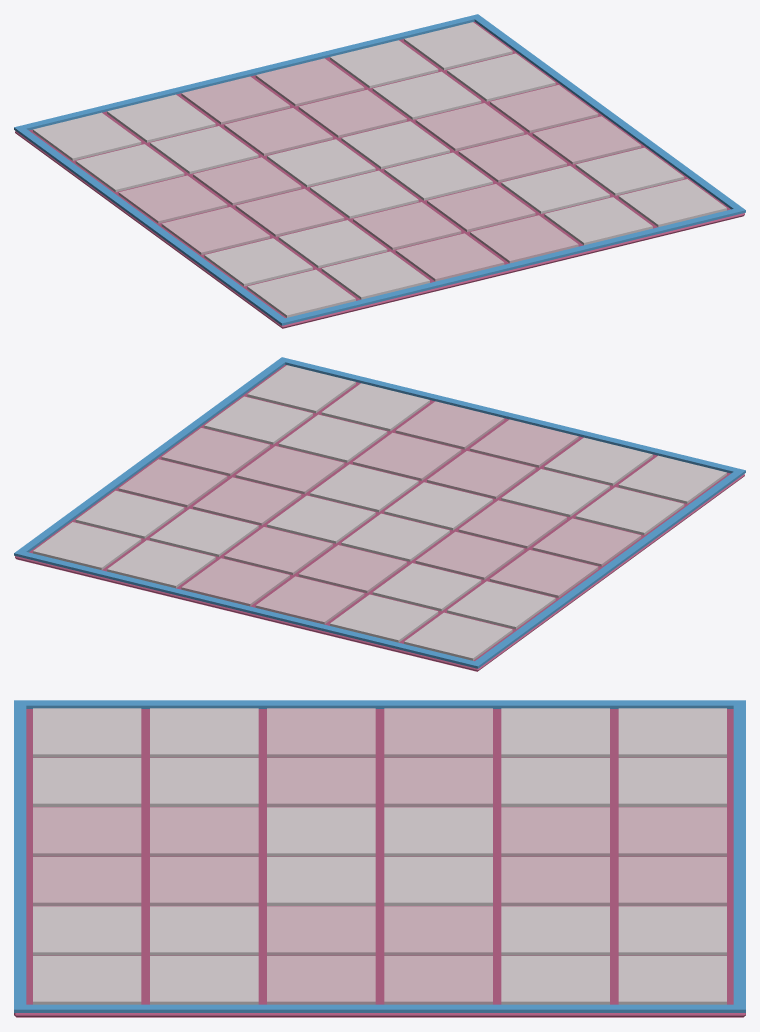
The model's file is block-plotfloor.glb.
3 views of the same model, one above another, from view 1: azimuth 30°, elevation 25°; view 2: azimuth 150°, elevation 25°; view 3: azimuth 270°, elevation 25° (orthographic). The views are drawn at different scales.
Parts seen in each view (by area): view 1: block-plotfloor; view 2: block-plotfloor; view 3: block-plotfloor.
Boxes of the visible parts, x1=… form: block-plotfloor: x1=14, y1=14, x2=745, y2=328; block-plotfloor: x1=14, y1=357, x2=745, y2=671; block-plotfloor: x1=14, y1=700, x2=745, y2=1017.
Bounding box in the file's own units: 6 × 0.08 × 6.
